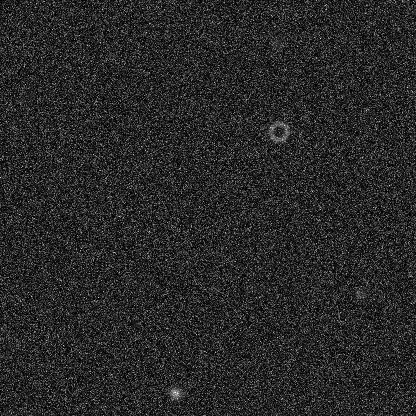Ring: (266, 119, 290, 143)
Spot: (352, 285, 368, 301), (268, 34, 284, 50), (167, 384, 183, 400)
